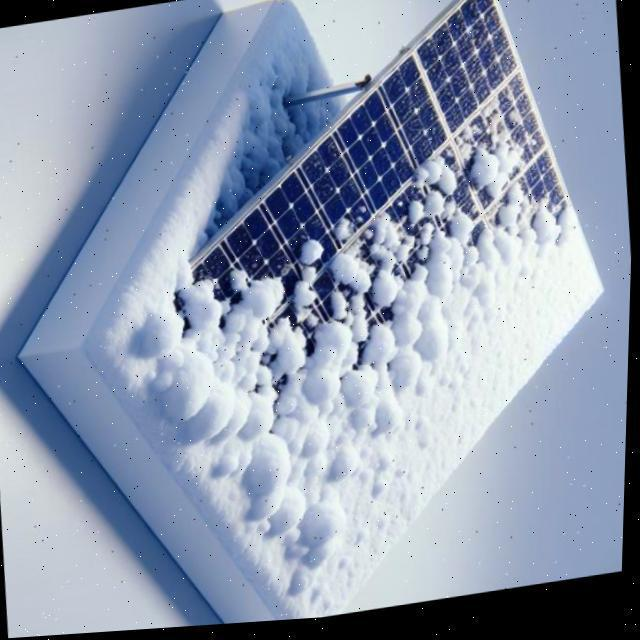Anomaly Solar Panel: (67, 0, 633, 624)
Snow: (98, 54, 633, 624)
